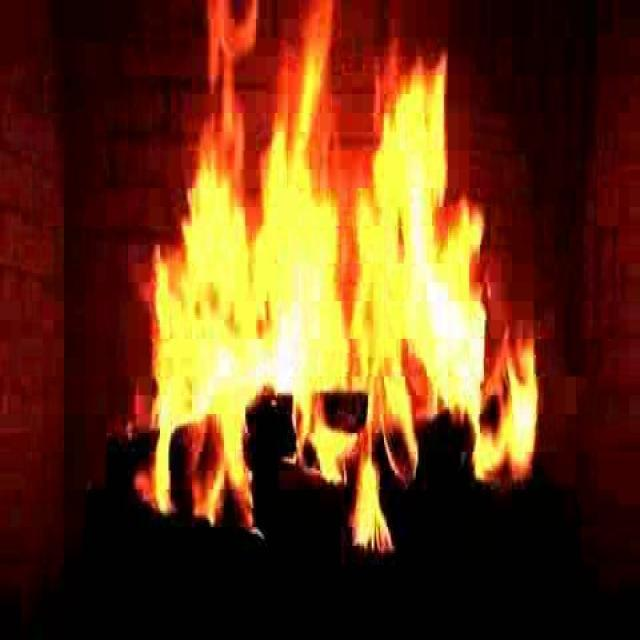Fire: (120, 41, 556, 564)
